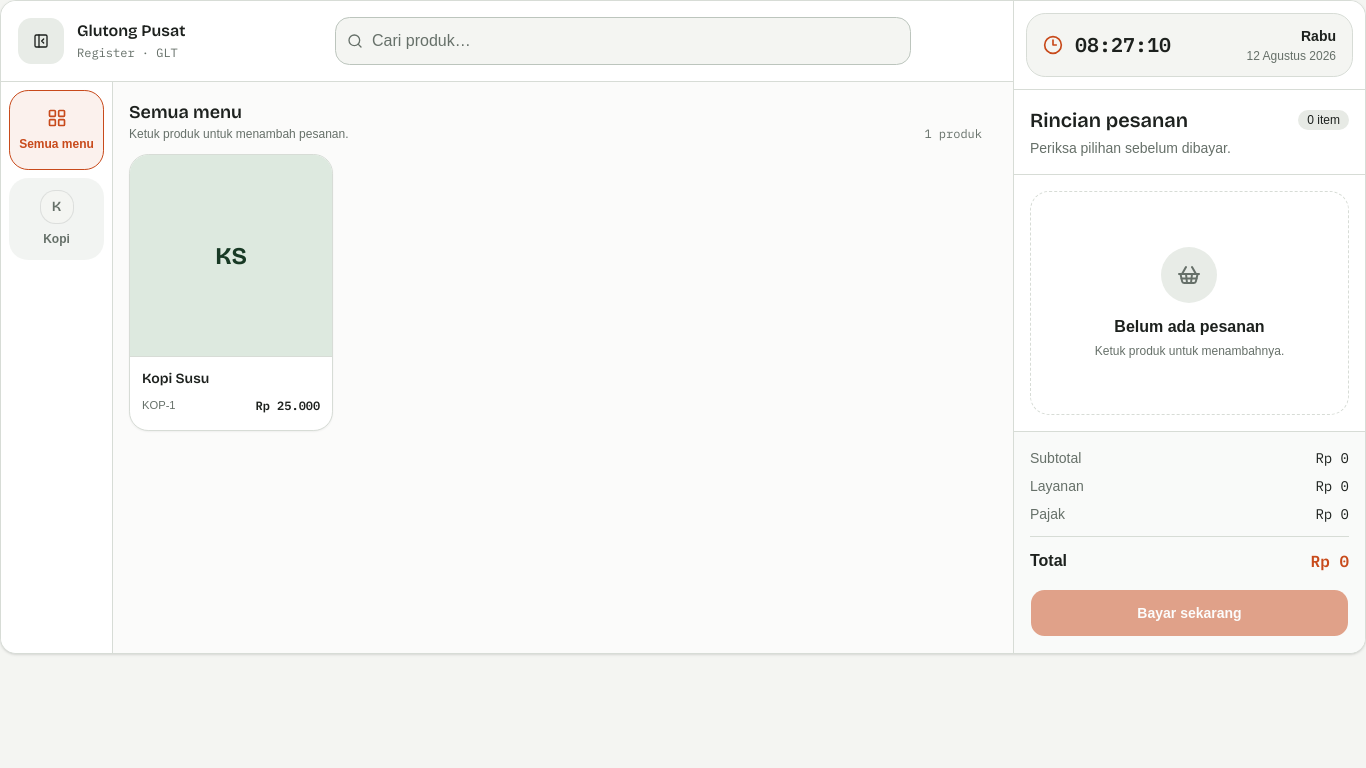
Test: POS register layout › merges an identical product and shows its quantity on the menu card
Click the button with aria-label "Tambah Kopi Susu ke pesanan". click: point(231, 292)
box: left=129, top=154, right=333, bottom=431
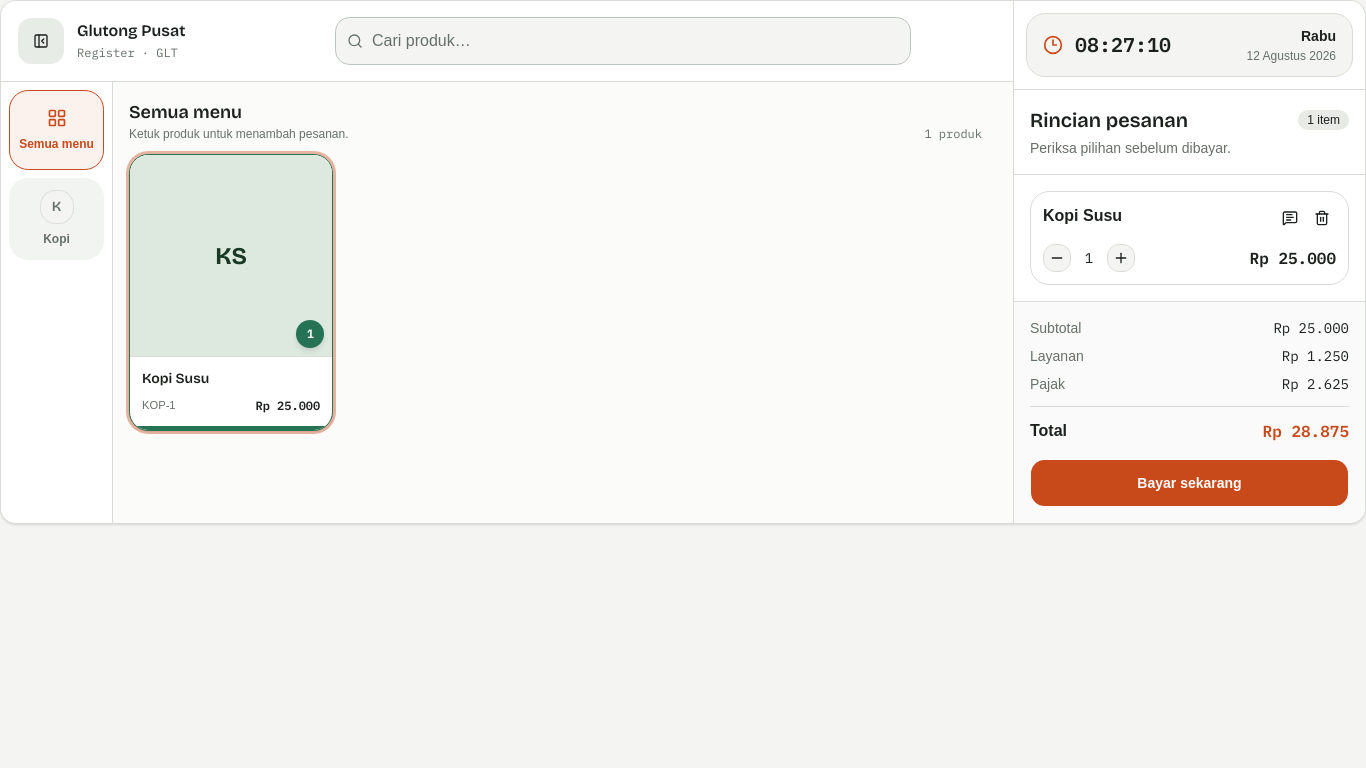
Click the button with aria-label "Tambah Kopi Susu ke pesanan". click: point(231, 292)
box: left=129, top=154, right=333, bottom=431
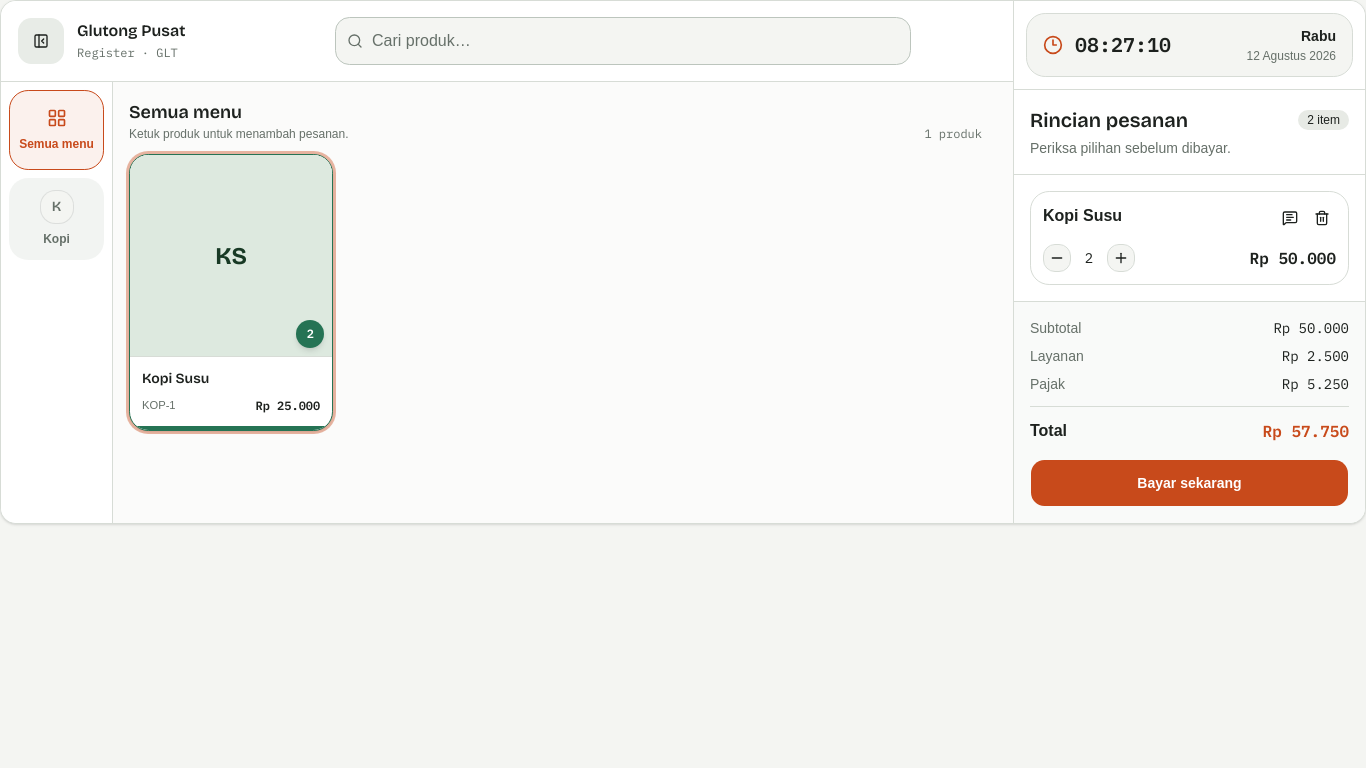
Now the text named "2 Kopi Susu dalam pesanan" is shown, box left=296, top=320, right=324, bottom=348
